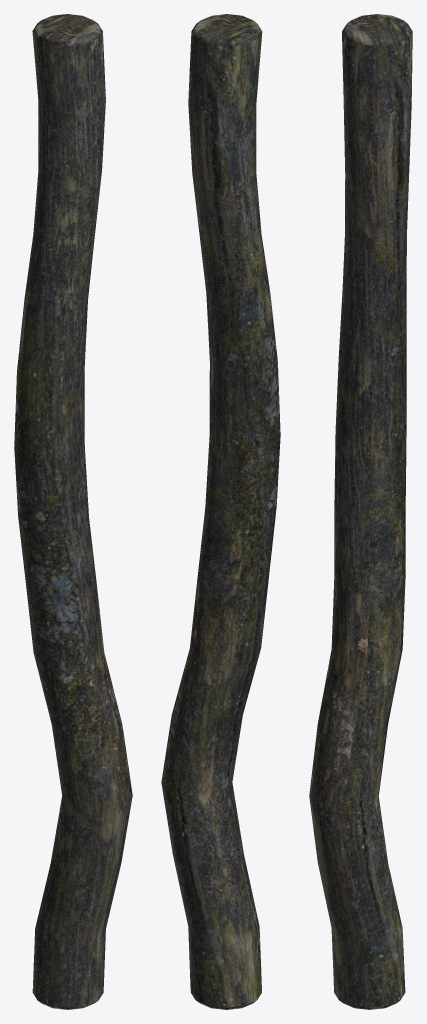
File: FenceVertical_3.fbx
The picture shows the model from 3 angles, left to right: view 1: azimuth 30°, elevation 25°; view 2: azimuth 210°, elevation 25°; view 3: azimuth 270°, elevation 25°; orthographic projection.
Visible parts, largest first — view 1: FenceVertical.002; view 2: FenceVertical.002; view 3: FenceVertical.002.
Boxes of the visible parts, x1=… form: FenceVertical.002: x1=14, y1=14, x2=132, y2=1009; FenceVertical.002: x1=161, y1=14, x2=280, y2=1009; FenceVertical.002: x1=309, y1=14, x2=412, y2=1009.
Bounding box in the file's own units: 11.35 × 110 × 10.61.
